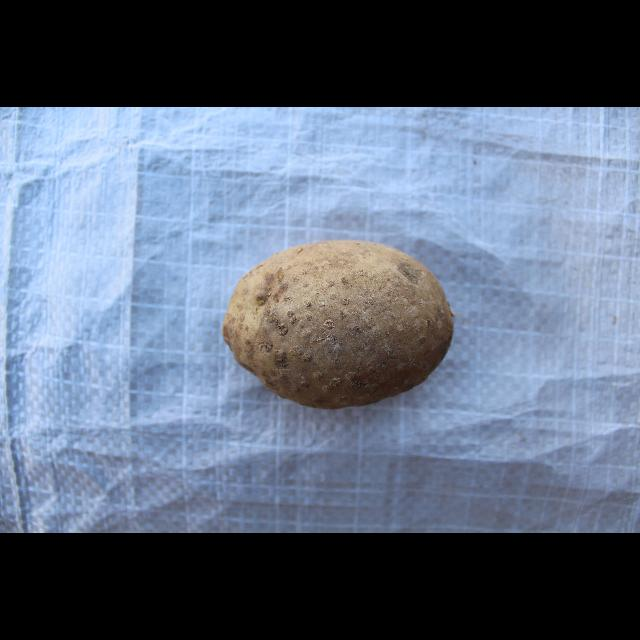Diseased-fungal potato: (218, 236, 454, 412)
